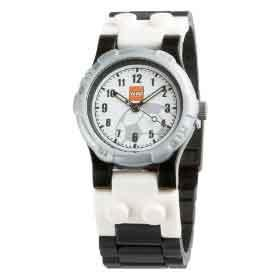watch: (78, 53, 193, 164)
